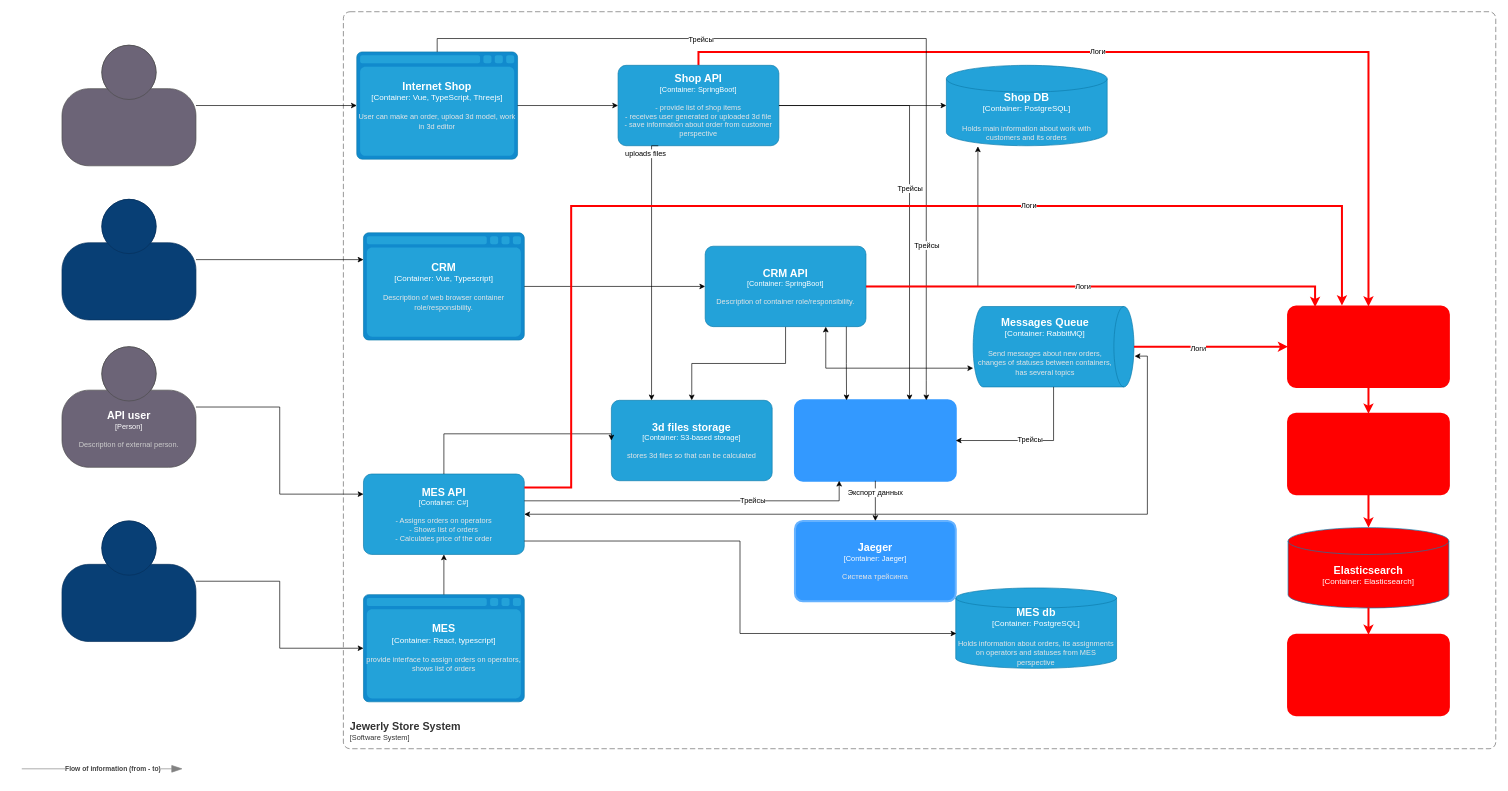
This 1508x791 diagram has some shape labels left out. Here are the shapes that lost their labels. From the top down, the centre of each, then its label:
At point (128, 105): "Customer [Person] Description of external person.".
At point (128, 259): "Seller [Person] Operates with order, confirms manufacturing for the user".
At point (1368, 346): "FluentD [Container: FluentD]".
At point (875, 440): "OpenTelemetry Collector [Container: OTel Collector]".
At point (1368, 453): "Logstash [Container: Logstash]".
At point (128, 581): "Operator [Person] Takes order in work, manufactures jewerly".
At point (1368, 674): "Kibana [Container: Kibana]".
